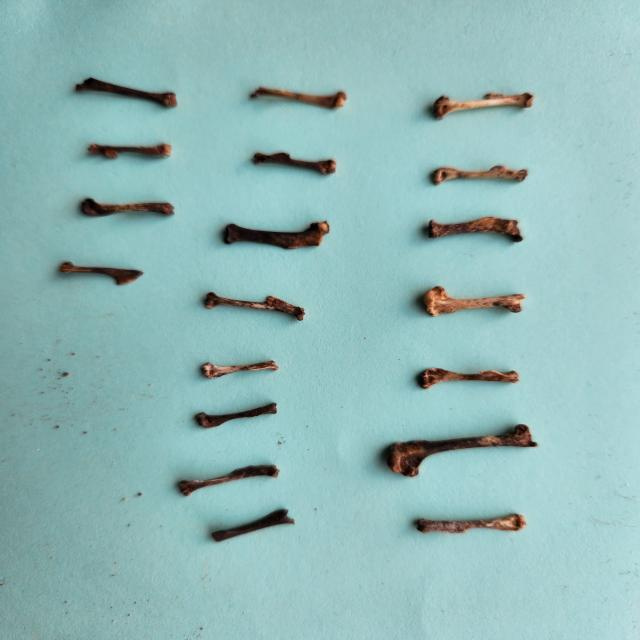fossil: (376, 416, 548, 481), (214, 214, 336, 262), (421, 82, 549, 127), (411, 205, 535, 250), (169, 457, 291, 502), (411, 281, 537, 324), (70, 71, 186, 116), (241, 78, 357, 121), (198, 284, 316, 326), (406, 508, 545, 542), (204, 503, 303, 550), (410, 358, 528, 397), (238, 142, 346, 184), (422, 156, 539, 192), (71, 190, 179, 227), (184, 398, 285, 433), (78, 134, 182, 167), (51, 257, 151, 291), (191, 353, 289, 383)
